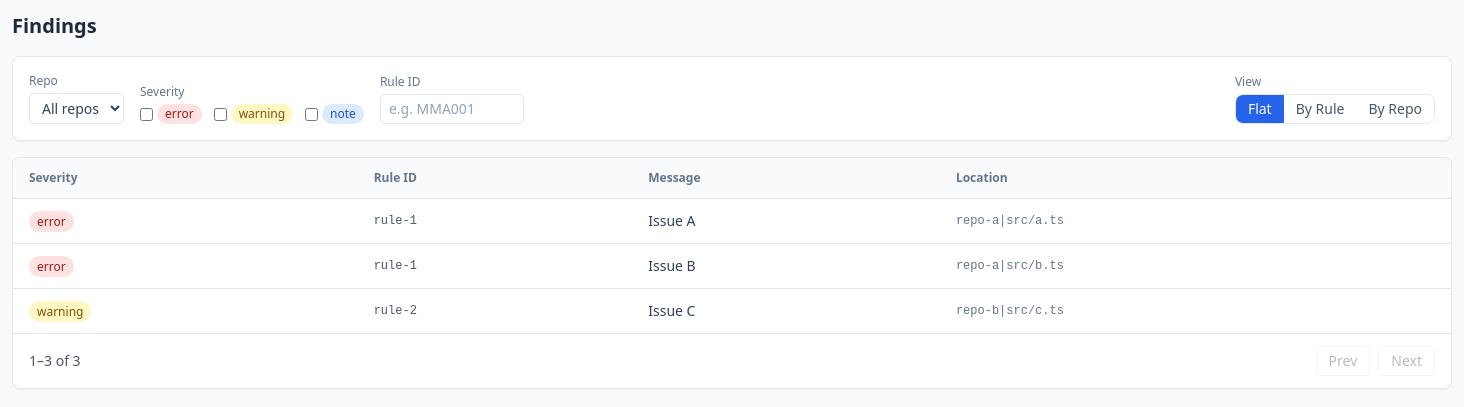
FindingsTable › in group-by-rule mode, clicking a rule section expands it
Check: the text "Issue A" is shown, box [632, 198, 940, 244]
Step 1. Click the button "By Rule" → [1320, 109], box [1284, 95, 1356, 123]
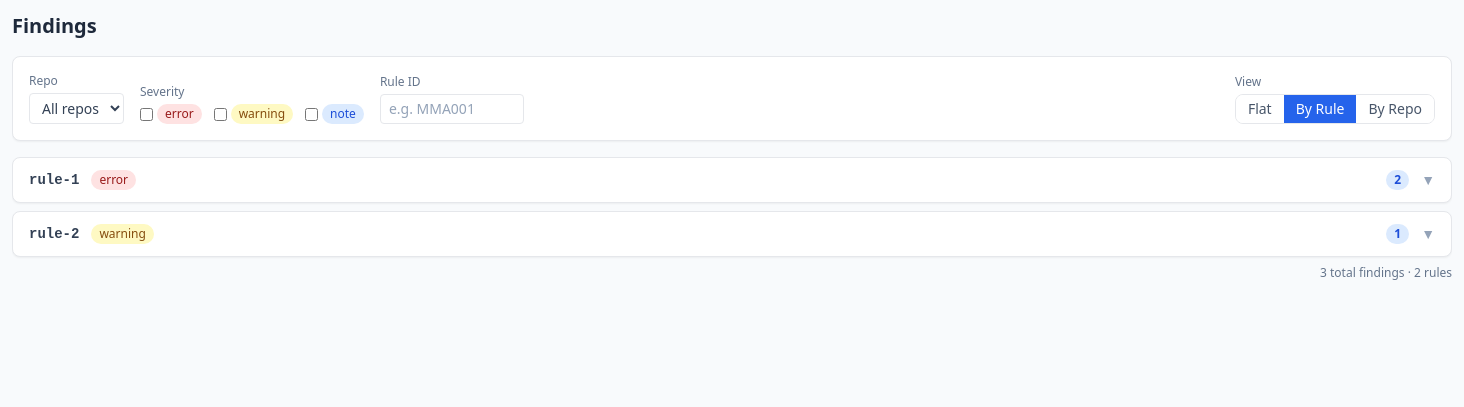
Check: the text "rule-1" is shown, box [29, 170, 79, 190]
Check: the text "Issue A" is gone
Check: the button "rule-1 error 2 ▼" is shown
Step 2. Click the button "rule-1 error 2 ▼" → [54, 180], box [13, 158, 1451, 202]
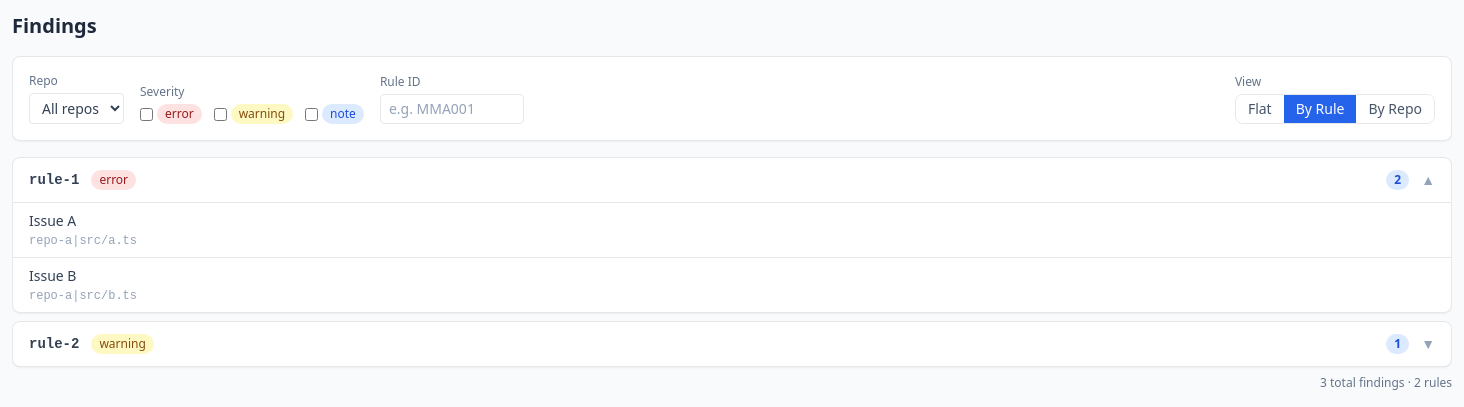
Check: the text "Issue A" is shown, box [29, 211, 76, 230]
Check: the text "Issue B" is shown, box [29, 266, 76, 285]
